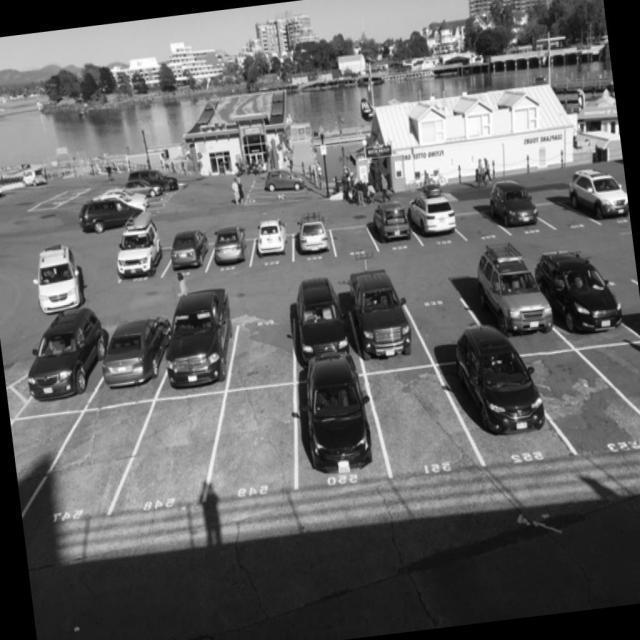car: (283, 363, 383, 484), (532, 243, 636, 353), (455, 332, 540, 466), (466, 246, 554, 344), (280, 280, 368, 372), (156, 305, 246, 393), (89, 316, 175, 402), (31, 316, 106, 412), (342, 268, 416, 362), (562, 160, 630, 236), (113, 228, 176, 294), (486, 178, 544, 238), (164, 222, 217, 284), (210, 218, 260, 278), (369, 196, 419, 256), (406, 200, 460, 254), (288, 213, 339, 264), (254, 215, 300, 271)
free: (34, 396, 152, 528), (120, 385, 234, 519), (526, 326, 622, 456), (207, 380, 306, 504), (366, 362, 459, 479), (394, 267, 489, 357), (214, 297, 310, 386), (527, 176, 592, 238), (329, 207, 383, 262), (452, 195, 504, 248)
